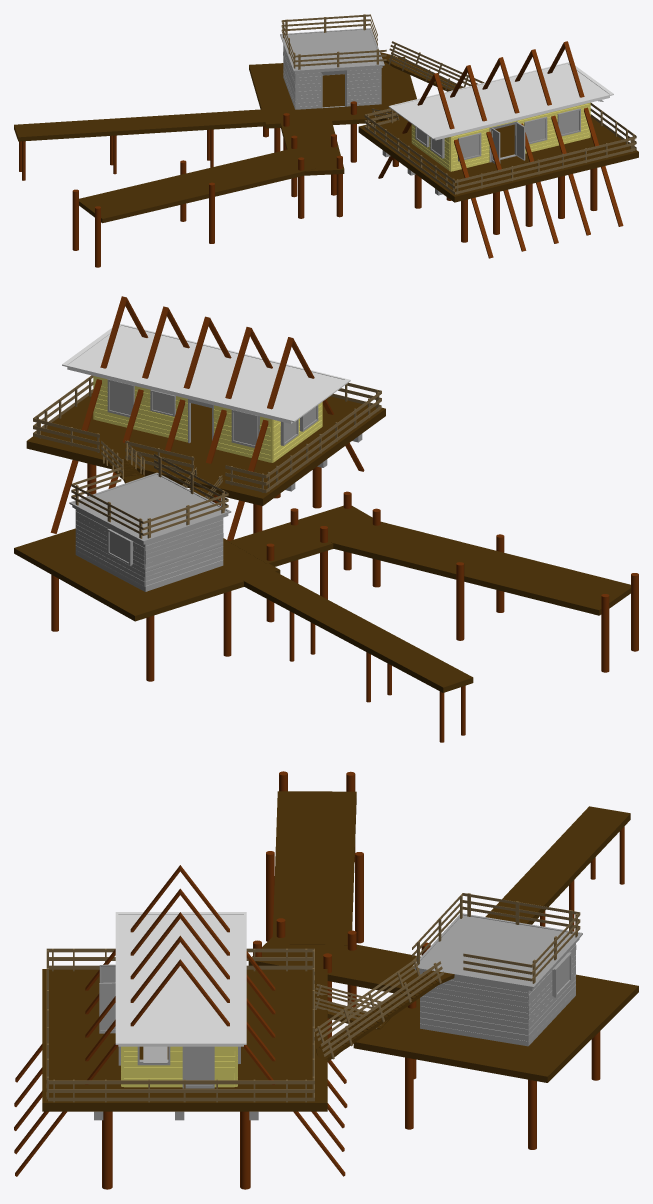
Rendered from A-FrameLigth.fbx.
3 views of the same model, one above another, from view 1: azimuth 30°, elevation 25°; view 2: azimuth 150°, elevation 25°; view 3: azimuth 270°, elevation 25° (orthographic). The views are drawn at different scales.
Parts seen in each view (by area): view 1: pPlane1, pCube265, pCube268, pCube266, pCube269, pPlane2, pCube234, pCube144, pCube267, pCube12, pCube9, pCube11 (+13 smaller); view 2: pPlane1, pCube265, pCube268, pCube266, pCube269, pCube234, pPlane2, pCube144, pCube267, pCube12, pCube7, pCube9 (+11 smaller); view 3: pCube265, pPlane1, pCube268, pCube266, pCube234, pPlane2, pCube269, pCube267, pCube144, pCube7, pCube192, pCube9 (+16 smaller).
Part boxes in pixels (left/top/right/bottom): pPlane1: left=388, top=62, right=613, bottom=140; pCube265: left=358, top=116, right=638, bottom=202; pCube268: left=79, top=149, right=315, bottom=223; pCube266: left=249, top=57, right=416, bottom=128; pCube269: left=14, top=109, right=267, bottom=141; pPlane2: left=280, top=28, right=384, bottom=73; pCube234: left=283, top=45, right=381, bottom=109; pCube144: left=411, top=102, right=590, bottom=171; pCube267: left=280, top=120, right=344, bottom=175; pCube12: left=378, top=73, right=493, bottom=258; pCube9: left=515, top=49, right=590, bottom=235; pCube11: left=450, top=65, right=526, bottom=251; pPlane1: left=62, top=323, right=350, bottom=423; pCube265: left=26, top=393, right=385, bottom=505; pCube268: left=331, top=518, right=630, bottom=615; pCube266: left=14, top=528, right=280, bottom=621; pCube269: left=243, top=570, right=473, bottom=692; pCube234: left=75, top=509, right=223, bottom=591; pPlane2: left=69, top=472, right=231, bottom=544; pCube144: left=93, top=376, right=322, bottom=462; pCube267: left=228, top=505, right=372, bottom=566; pCube12: left=227, top=337, right=364, bottom=540; pCube7: left=50, top=296, right=148, bottom=533; pCube9: left=108, top=306, right=189, bottom=488; pCube265: left=42, top=969, right=327, bottom=1111; pPlane1: left=115, top=912, right=246, bottom=1046; pCube268: left=272, top=791, right=356, bottom=945; pCube266: left=353, top=974, right=638, bottom=1082; pCube234: left=420, top=944, right=576, bottom=1046; pPlane2: left=412, top=913, right=582, bottom=990; pCube269: left=485, top=806, right=630, bottom=924; pCube267: left=248, top=937, right=420, bottom=993; pCube144: left=121, top=1046, right=237, bottom=1087; pCube7: left=15, top=959, right=345, bottom=1176; pCube192: left=315, top=970, right=454, bottom=1061; pCube9: left=14, top=935, right=344, bottom=1154.
Bounding box in the file's own units: 511 × 167 × 402.
